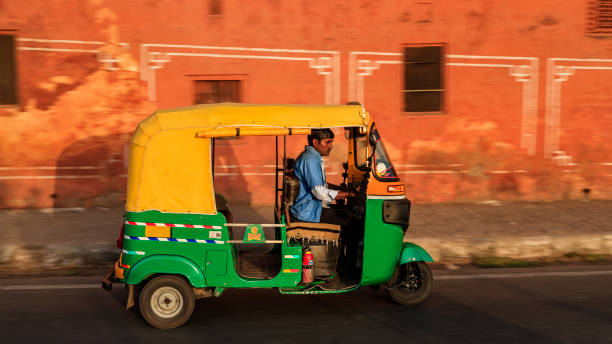threewheel: (115, 102, 435, 332)
